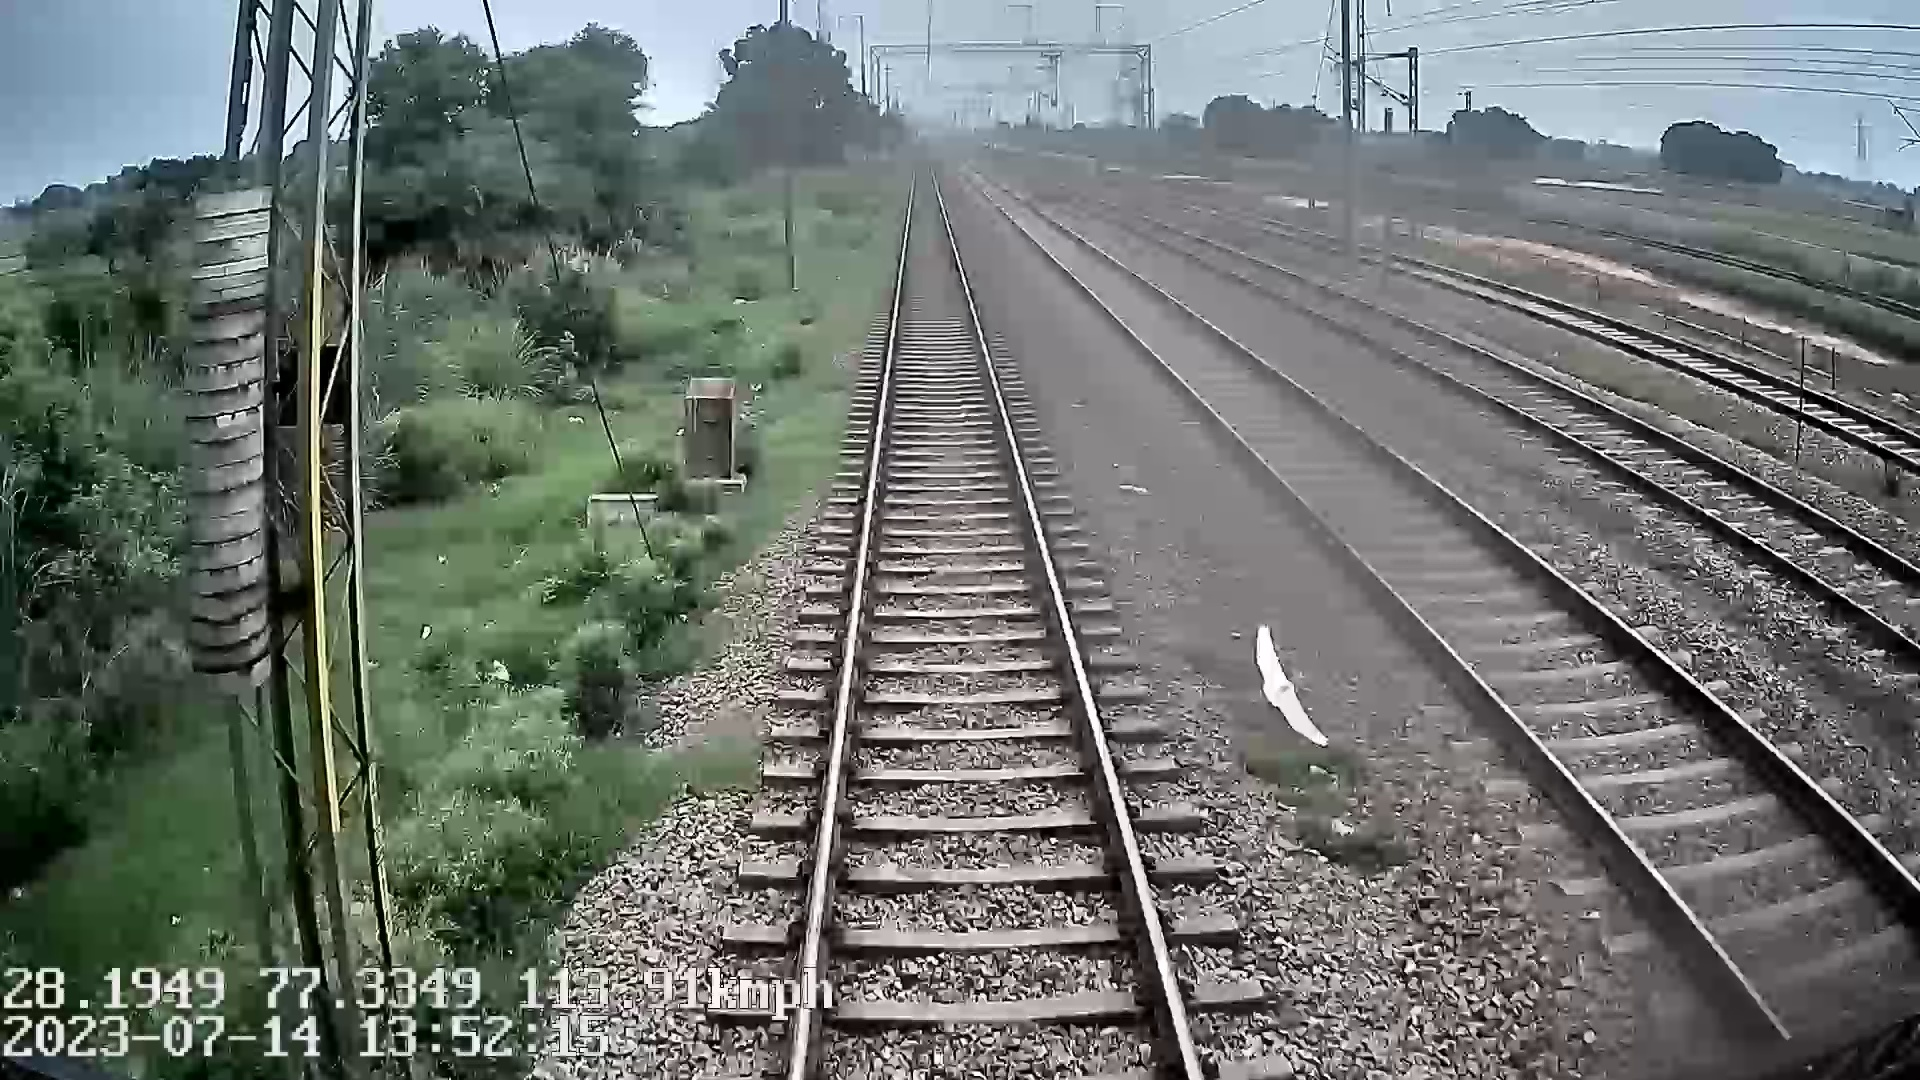track1: (798, 179, 1184, 1063)
track2: (975, 177, 1913, 993)
track3: (1156, 235, 1919, 629)
track4: (1410, 261, 1909, 456)
